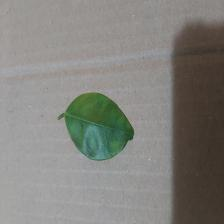greening: (57, 90, 137, 164)
